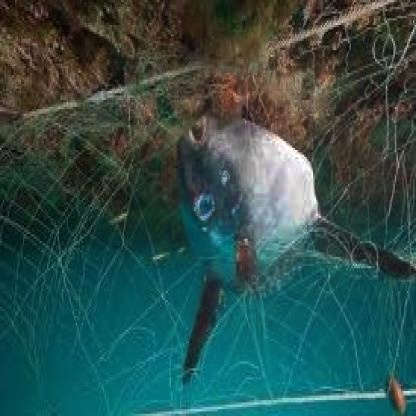net: (1, 113, 163, 416)
